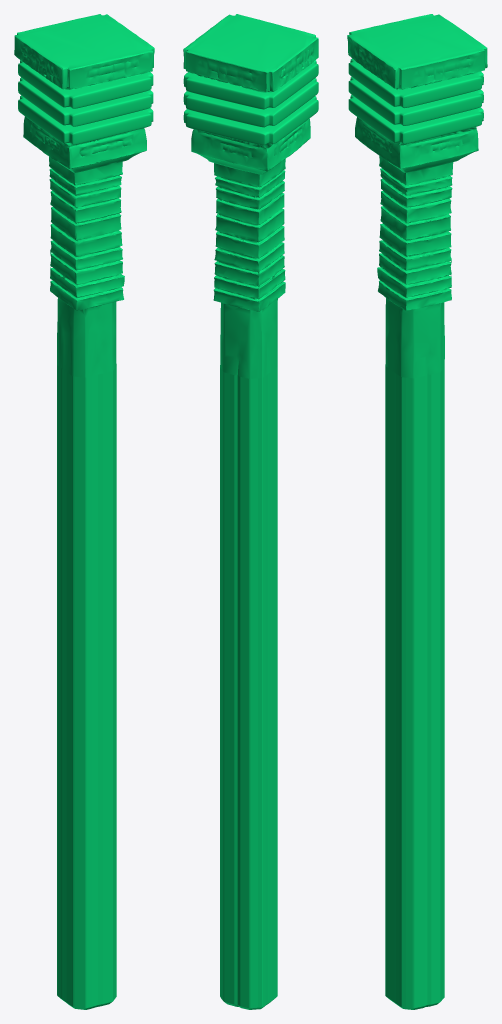
Rendered from SM_Staff.fbx.
The picture shows the model from 3 angles, left to right: view 1: azimuth 90°, elevation 25°; view 2: azimuth 210°, elevation 25°; view 3: azimuth 270°, elevation 25°; orthographic projection.
Parts seen in each view (by area): view 1: Staff2; view 2: Staff2; view 3: Staff2.
Boxes of the visible parts, x1,y1,x2,y2 form: Staff2: (14,14,154,1009); Staff2: (183,14,318,1009); Staff2: (347,14,487,1009).
Size of the model in its own units: 70.34 by 546 by 72.54.
